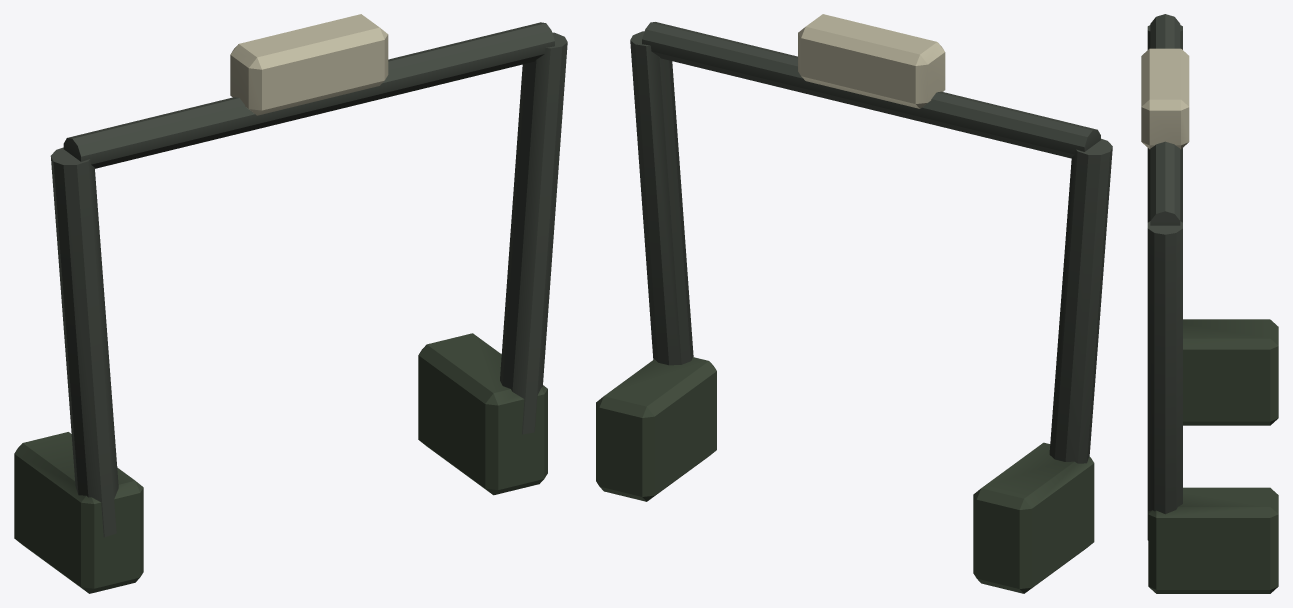
Rendered from structure_braced.glb.
The picture shows the model from 3 angles, left to right: view 1: azimuth 30°, elevation 25°; view 2: azimuth 150°, elevation 25°; view 3: azimuth 270°, elevation 25°; orthographic projection. The views are drawn at different scales.
Visible parts, largest first — view 1: Recovery_cage_rail.001, Recovery_cage_rail, Upper_cage_tie, Braced_hip_socket, Braced_hip_socket.001, Recovery_lifting_eye; view 2: Braced_hip_socket, Braced_hip_socket.001, Recovery_cage_rail.001, Upper_cage_tie, Recovery_cage_rail, Recovery_lifting_eye; view 3: Braced_hip_socket, Recovery_cage_rail.001, Braced_hip_socket.001, Recovery_lifting_eye, Upper_cage_tie, Recovery_cage_rail.
Part boxes in pixels (x1,y1,x2,y2): Recovery_cage_rail.001: (500,32,567,434); Recovery_cage_rail: (50,147,118,537); Upper_cage_tie: (63,22,554,168); Braced_hip_socket: (418,333,547,495); Braced_hip_socket.001: (14,432,143,593); Recovery_lifting_eye: (230,14,388,115); Braced_hip_socket: (596,357,716,501); Braced_hip_socket.001: (973,442,1094,593); Recovery_cage_rail.001: (630,31,693,365); Upper_cage_tie: (642,22,1100,158); Recovery_cage_rail: (1049,138,1112,463); Recovery_lifting_eye: (798,14,945,108); Braced_hip_socket: (1148,487,1278,593); Recovery_cage_rail.001: (1147,221,1182,540); Braced_hip_socket.001: (1183,319,1278,425); Recovery_lifting_eye: (1141,48,1189,149); Upper_cage_tie: (1150,14,1180,225); Recovery_cage_rail: (1147,25,1182,222).
Bounding box in the file's own units: 0.7338 × 0.685 × 0.2.
